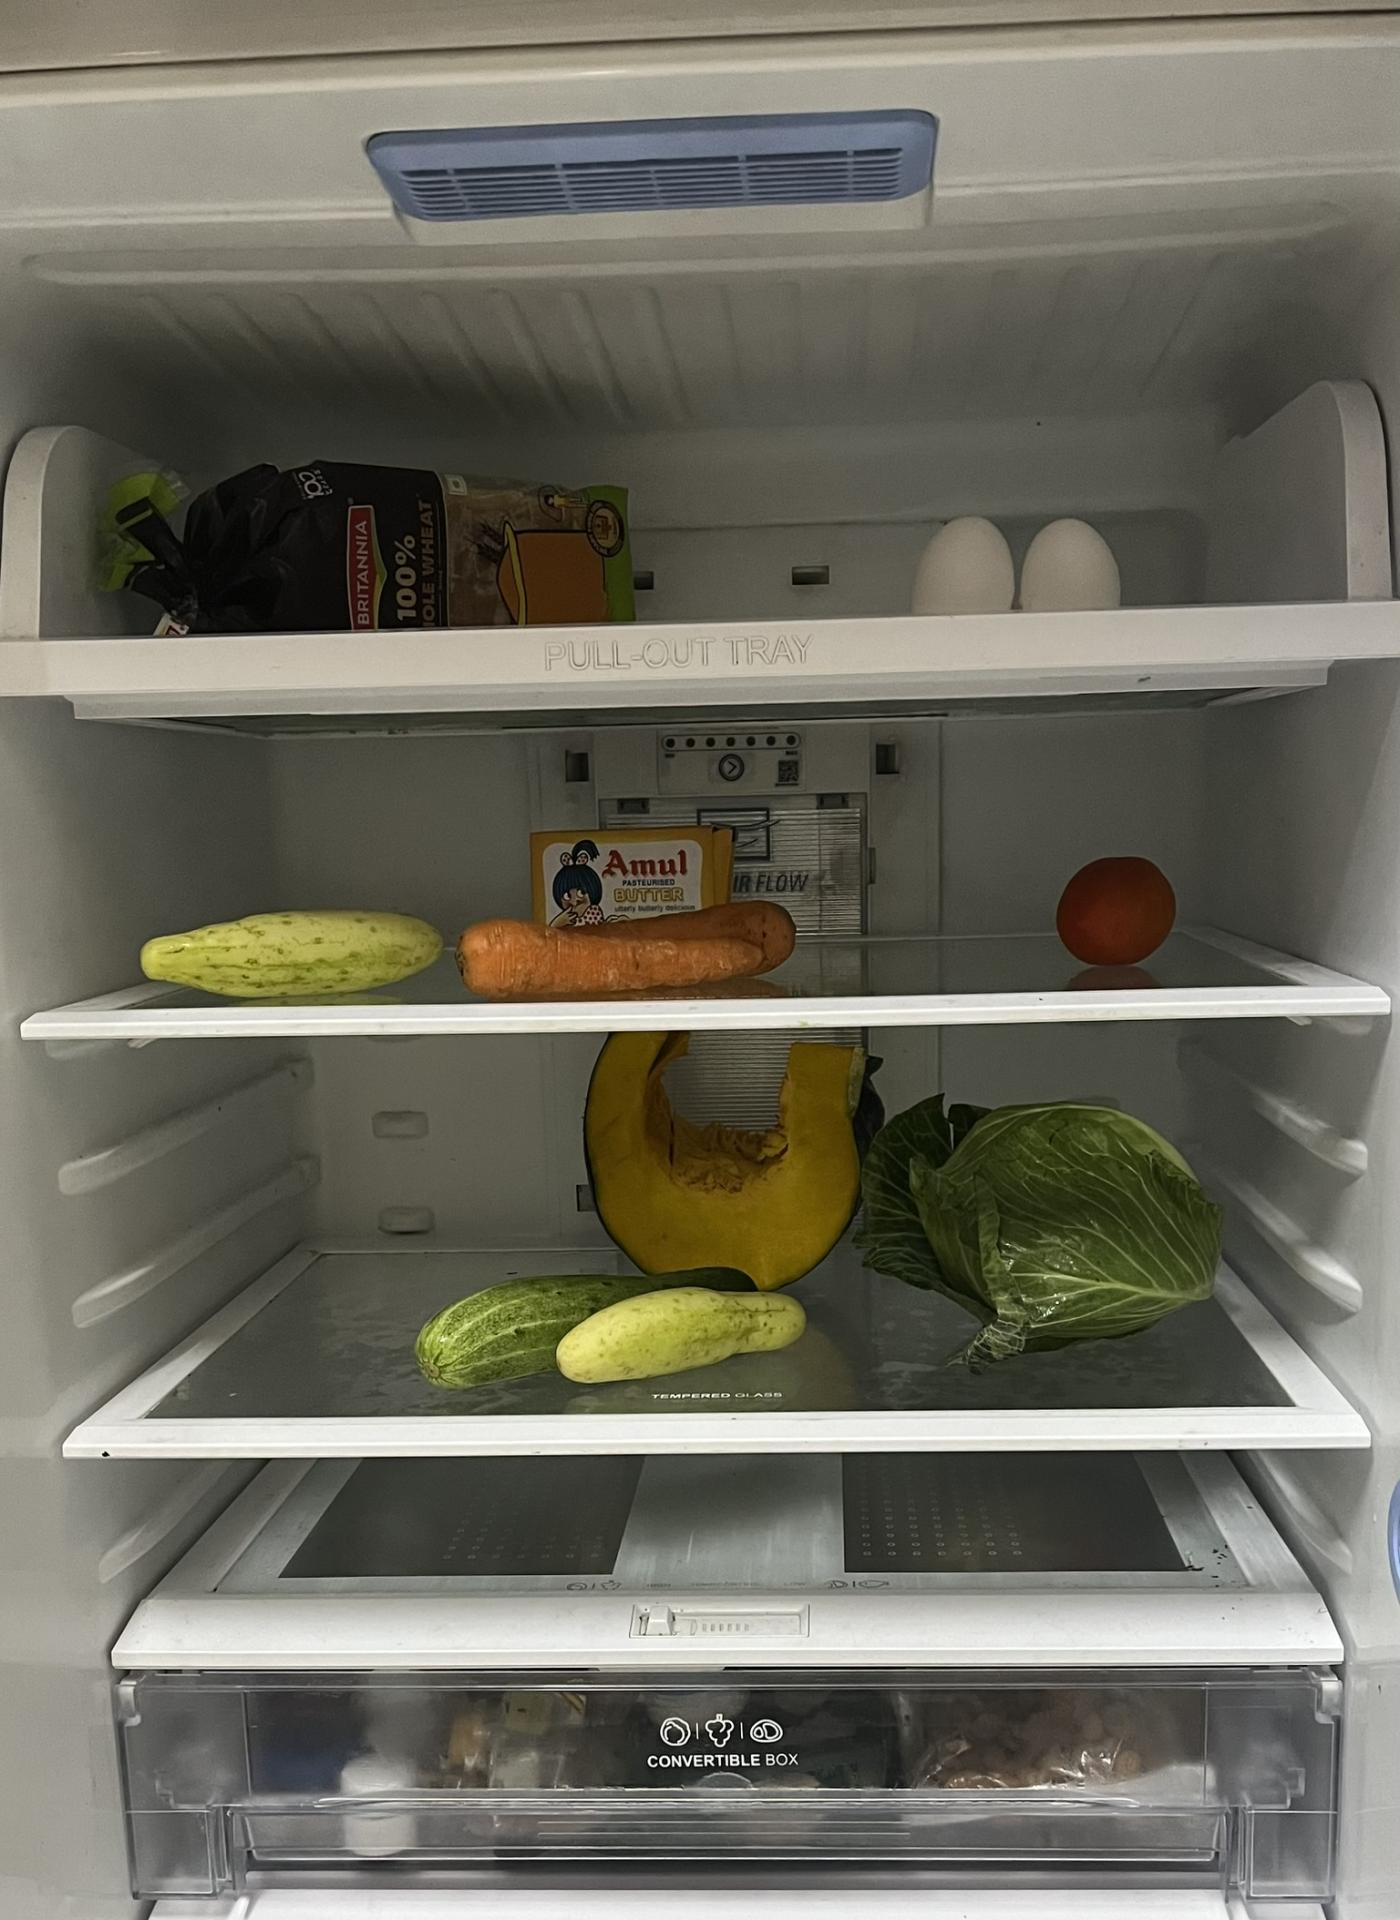bread: (122, 441, 647, 622)
butter: (520, 821, 729, 915)
cabbage: (878, 1103, 1227, 1365)
carrots: (459, 903, 808, 991)
cucumber: (416, 1263, 811, 1388), (118, 897, 449, 997)
egg: (921, 490, 1124, 610)
pumpkin: (580, 1043, 872, 1285)
tomato: (1051, 850, 1191, 969)
